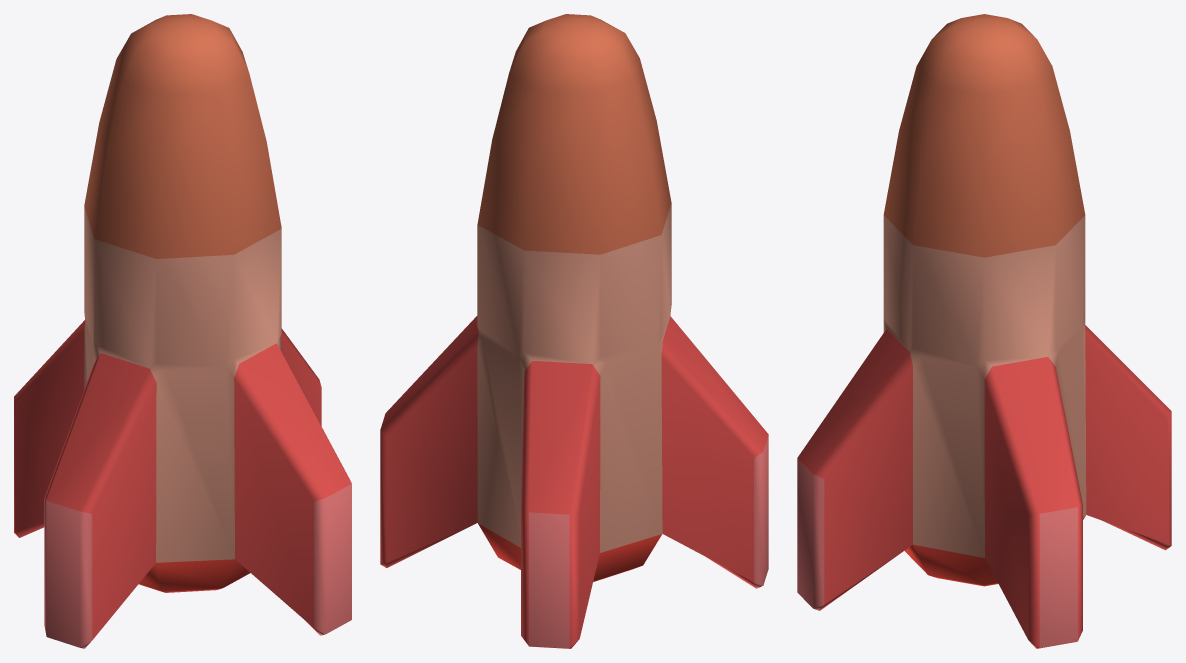
The model's file is Missile2.fbx.
The picture shows the model from 3 angles, left to right: view 1: azimuth 30°, elevation 25°; view 2: azimuth 150°, elevation 25°; view 3: azimuth 270°, elevation 25°; orthographic projection.
Parts seen in each view (by area): view 1: Missile2; view 2: Missile2; view 3: Missile2.
Boxes of the visible parts, x1,y1,x2,y2 form: Missile2: [14, 14, 351, 648]; Missile2: [380, 14, 768, 648]; Missile2: [797, 14, 1171, 648].
Size of the model in its own units: 90.4 by 146 by 90.4.
